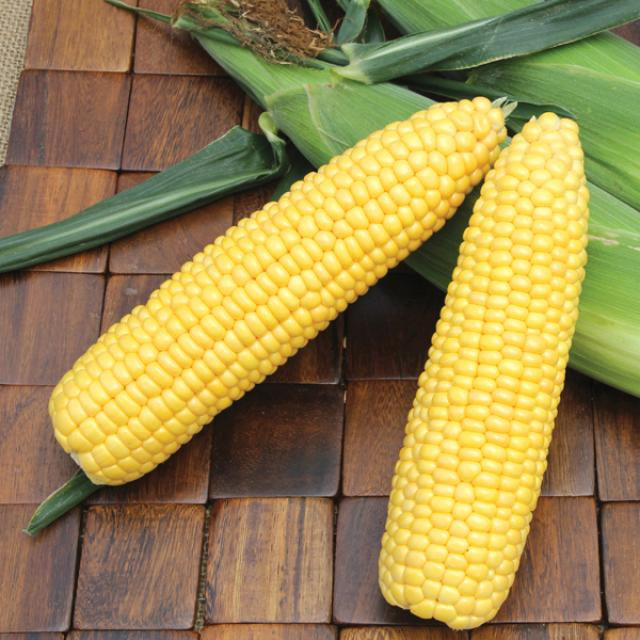corn: (45, 90, 513, 498), (358, 106, 604, 635)
